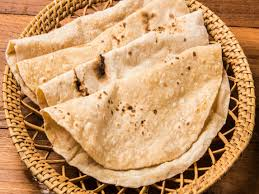roti: (12, 11, 238, 164)
